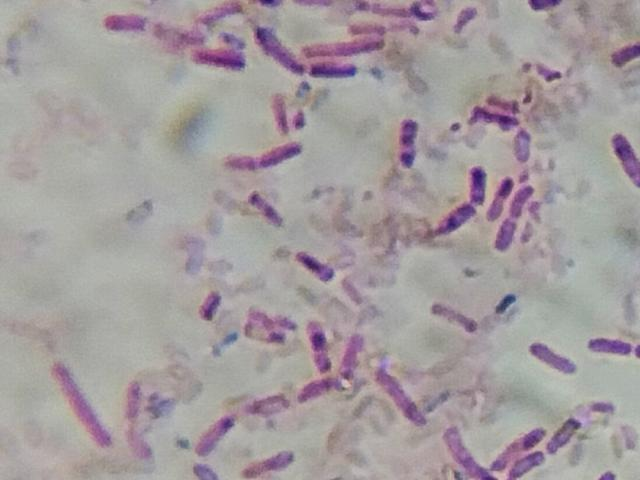E. coli: (56, 365, 118, 446), (379, 364, 426, 434), (222, 140, 307, 174), (493, 427, 548, 479), (253, 24, 300, 80), (126, 375, 154, 461), (445, 426, 484, 480), (433, 298, 484, 337), (243, 447, 300, 479), (527, 336, 572, 376), (194, 39, 248, 72), (300, 318, 331, 375), (197, 418, 237, 458), (613, 131, 640, 190), (304, 39, 382, 59), (248, 188, 282, 230), (298, 246, 335, 283), (308, 59, 360, 83), (547, 414, 582, 448), (249, 389, 285, 421), (438, 204, 476, 233), (613, 31, 640, 68), (589, 332, 629, 356), (488, 171, 507, 220), (450, 2, 476, 37), (403, 115, 420, 168), (514, 124, 531, 168), (197, 290, 220, 320), (474, 164, 488, 209), (514, 180, 532, 214), (498, 219, 516, 251), (274, 92, 287, 132)
